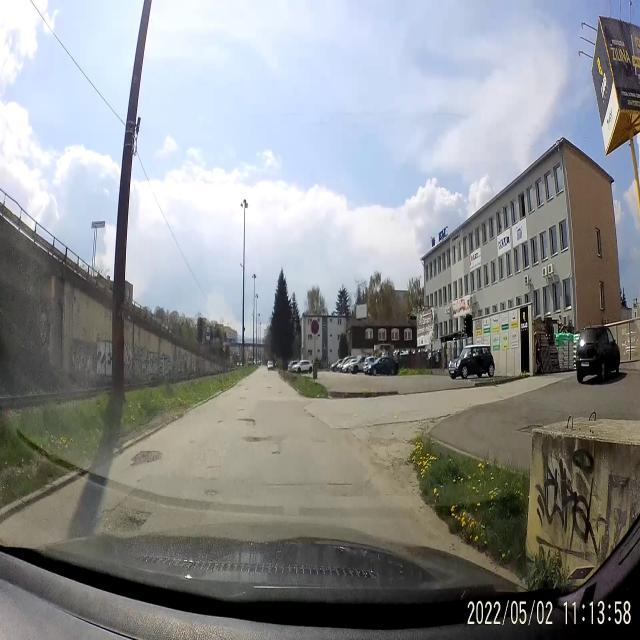Pothole: (105, 498, 153, 534), (128, 443, 164, 472), (245, 430, 278, 446), (233, 414, 257, 431), (206, 464, 222, 472), (205, 489, 218, 497), (272, 450, 282, 457), (218, 419, 225, 425), (237, 407, 245, 412)
